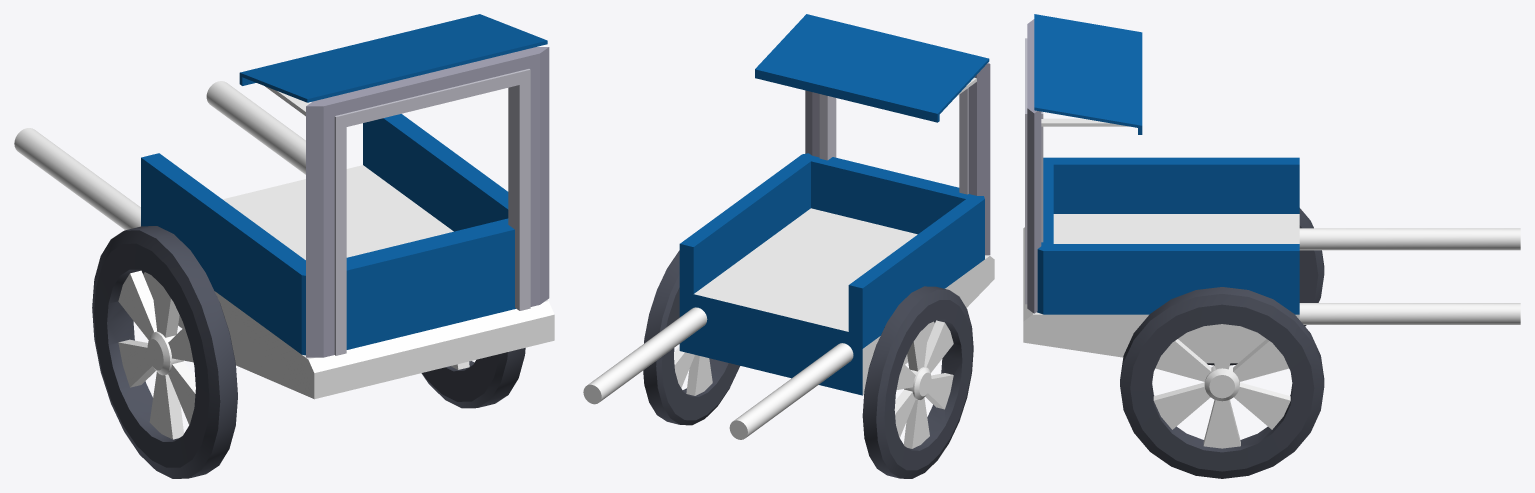
The model's file is Rickshaw.model.obj.fbx.
The picture shows the model from 3 angles, left to right: view 1: azimuth 30°, elevation 25°; view 2: azimuth 150°, elevation 25°; view 3: azimuth 270°, elevation 25°; orthographic projection. The views are drawn at different scales.
Parts seen in each view (by area): view 1: trunk_bed_14, wheel_spokes%_1, wall_garageDoor_22, awning_singleTone%_20, cylinder_full_17, wheel_spokes%_6, cylinder_full_16; view 2: trunk_bed_14, wheel_spokes%_1, awning_singleTone%_20, wheel_spokes%_6, wall_garageDoor_22, cylinder_full_17, cylinder_full_16; view 3: trunk_bed_14, wheel_spokes%_6, awning_singleTone%_20, cylinder_full_17, cylinder_full_16, wall_garageDoor_22, wheel_spokes%_1.
Part boxes in pixels (<box>): trunk_bed_14: <box>141,114,554,399</box>; wheel_spokes%_1: <box>92,226,237,478</box>; wall_garageDoor_22: <box>306,47,549,357</box>; awning_singleTone%_20: <box>239,14,547,116</box>; cylinder_full_17: <box>14,128,140,230</box>; wheel_spokes%_6: <box>421,348,525,408</box>; cylinder_full_16: <box>206,81,305,174</box>; trunk_bed_14: <box>679,153,994,395</box>; wheel_spokes%_1: <box>862,286,973,478</box>; awning_singleTone%_20: <box>755,14,989,122</box>; wheel_spokes%_6: <box>643,250,739,425</box>; wall_garageDoor_22: <box>805,62,990,255</box>; cylinder_full_17: <box>729,343,853,439</box>; cylinder_full_16: <box>583,307,707,404</box>; trunk_bed_14: <box>1023,157,1299,363</box>; wheel_spokes%_6: <box>1120,287,1324,478</box>; awning_singleTone%_20: <box>1034,14,1142,134</box>; cylinder_full_17: <box>1299,228,1520,250</box>; cylinder_full_16: <box>1299,303,1520,324</box>; wall_garageDoor_22: <box>1025,19,1043,313</box>; wheel_spokes%_1: <box>1207,208,1324,365</box>.
Bounding box in the file's own units: 26.34 × 35.78 × 45.
